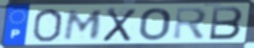B: (207, 6, 245, 41)
M: (62, 9, 106, 42)
O: (138, 7, 173, 42), (30, 8, 65, 43)
R: (172, 7, 210, 42)
X: (101, 7, 138, 43)
